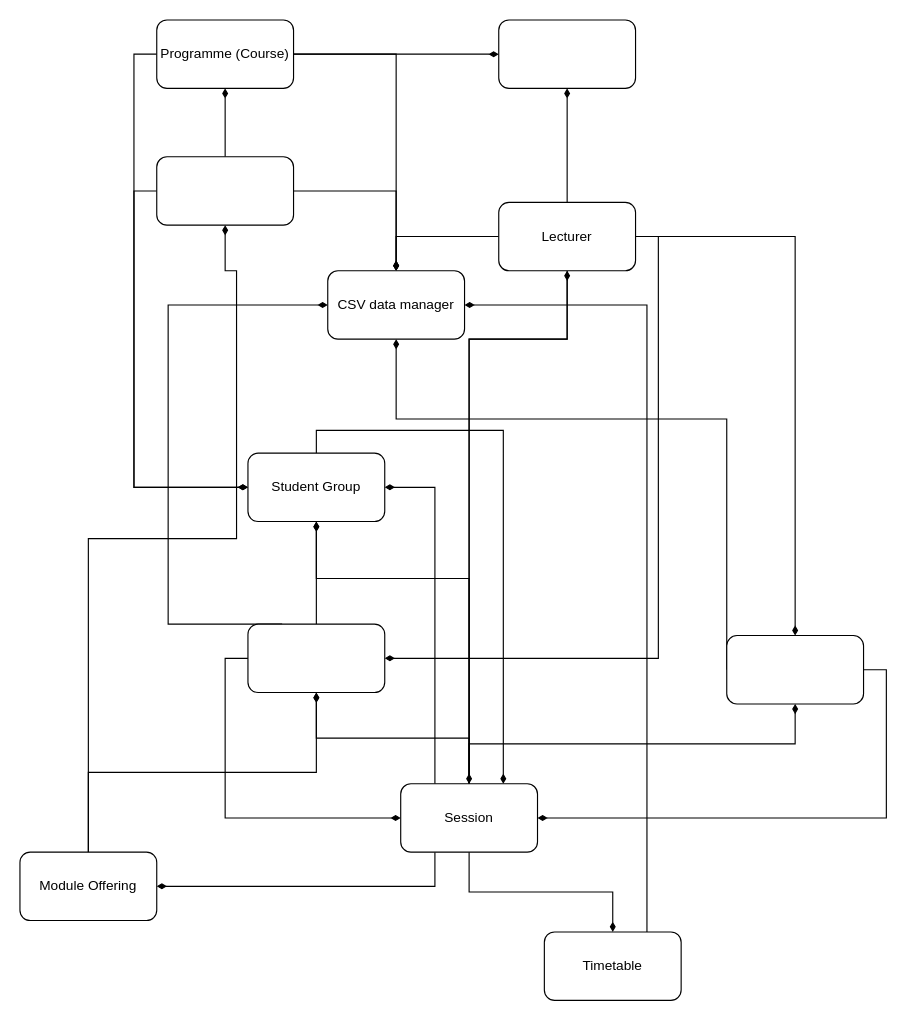
Image size: 915x1020. Some labels were removed from this diagram. Here are the shapes that lost their labels. From the top down, the centre of each, then its label:
[567,53]: User
[225,190]: Year
[316,658]: Module
[795,669]: Room
